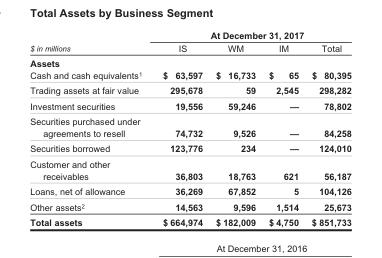table: (29, 29, 350, 226)
table column: (29, 29, 151, 226), (151, 29, 208, 226), (208, 29, 261, 226), (304, 29, 350, 226), (261, 29, 304, 226)
table column header: (29, 29, 350, 55)
table projected row header: (29, 55, 350, 68)
table row: (29, 113, 350, 140), (29, 155, 350, 182), (29, 97, 350, 113), (29, 182, 350, 198), (29, 40, 350, 55), (29, 82, 350, 97), (29, 140, 350, 155), (29, 198, 350, 213), (29, 68, 350, 82), (29, 55, 350, 68), (29, 213, 350, 226), (29, 29, 350, 40)
table spanning cell: (29, 29, 151, 55), (151, 29, 350, 40)
